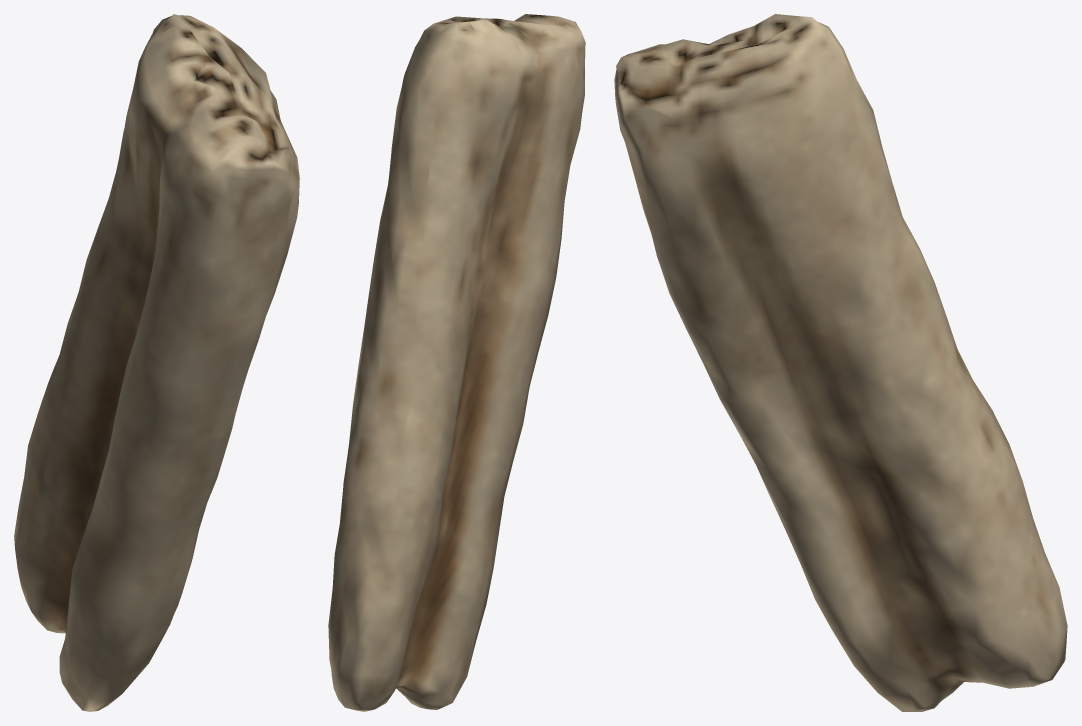
The model's file is Mandibular_Molar1.glb.
3 renders of one model, left to right at view 1: azimuth 30°, elevation 25°; view 2: azimuth 150°, elevation 25°; view 3: azimuth 270°, elevation 25°, orthographic. The views are drawn at different scales.
Parts seen in each view (by area): view 1: Group33976_Mesh.049; view 2: Group33976_Mesh.049; view 3: Group33976_Mesh.049.
Boxes of the visible parts, box(x1,y1,x2,y2) form: Group33976_Mesh.049: box(14, 14, 299, 711); Group33976_Mesh.049: box(328, 14, 585, 711); Group33976_Mesh.049: box(614, 14, 1067, 711).
Bounding box in the file's own units: 0.0174 × 0.086 × 0.05.
1 material, 1 textured.
